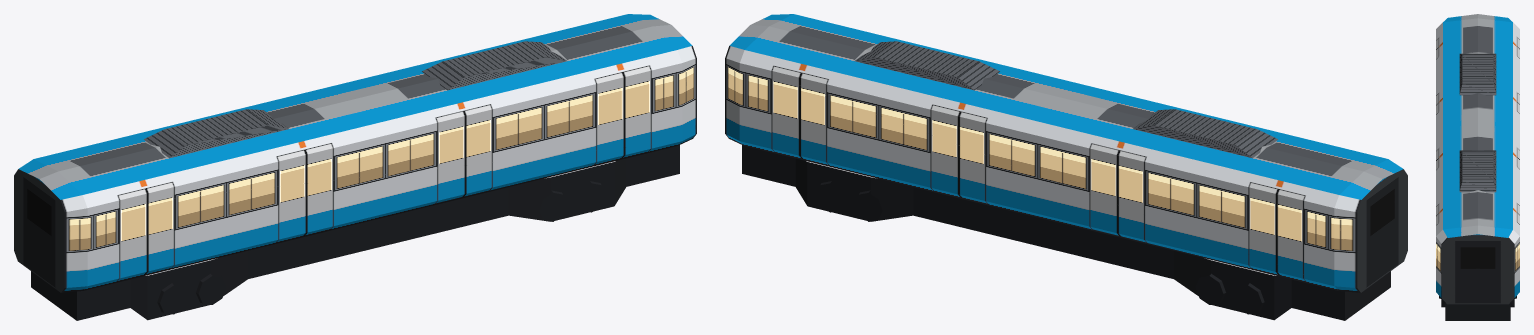
The model's file is paris_idfm_steel__neutral.glb.
The picture shows the model from 3 angles, left to right: view 1: azimuth 30°, elevation 25°; view 2: azimuth 150°, elevation 25°; view 3: azimuth 270°, elevation 25°; orthographic projection. The views are drawn at different scales.
Visible parts, largest first — view 1: paris_idfm_steel__neutral; view 2: paris_idfm_steel__neutral; view 3: paris_idfm_steel__neutral.
Boxes of the visible parts, <box> form: paris_idfm_steel__neutral: <box>14,14,696,320</box>; paris_idfm_steel__neutral: <box>725,14,1407,320</box>; paris_idfm_steel__neutral: <box>1436,14,1519,320</box>.
Bounding box in the file's own units: 15.15 × 3.47 × 2.44.
Materials: 1 (1 with a texture image).
